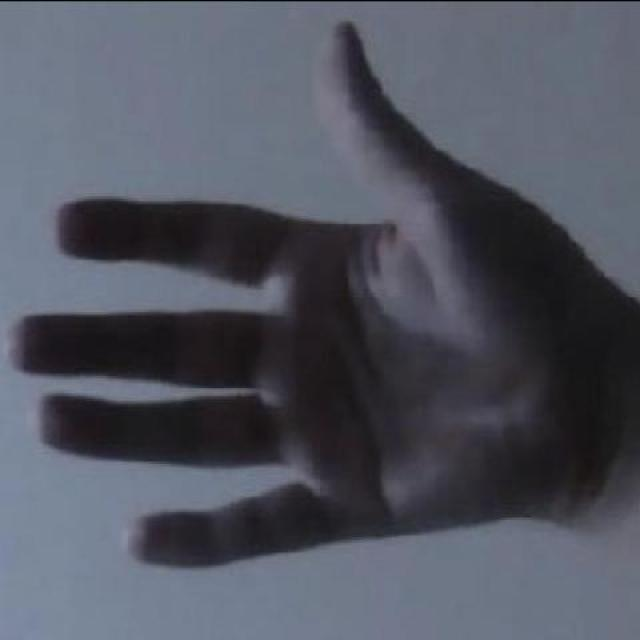Open Hand: (5, 12, 640, 576)
